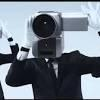no more kid: (30, 8, 90, 59)
